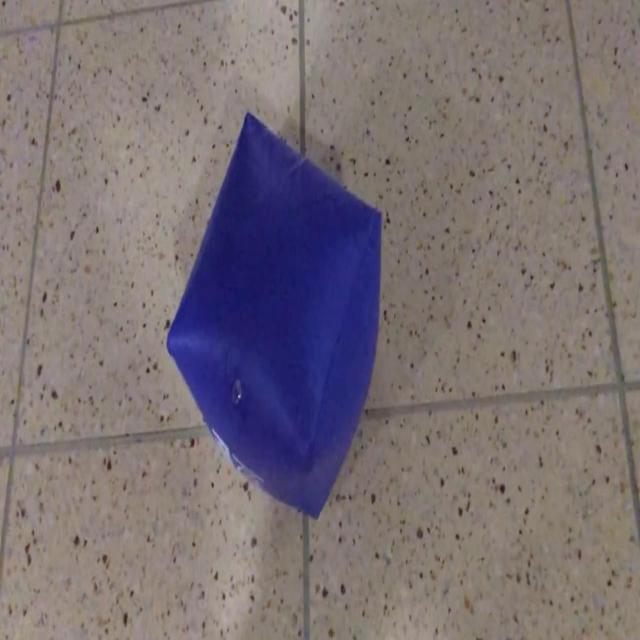frc_cube: (165, 107, 383, 517)
